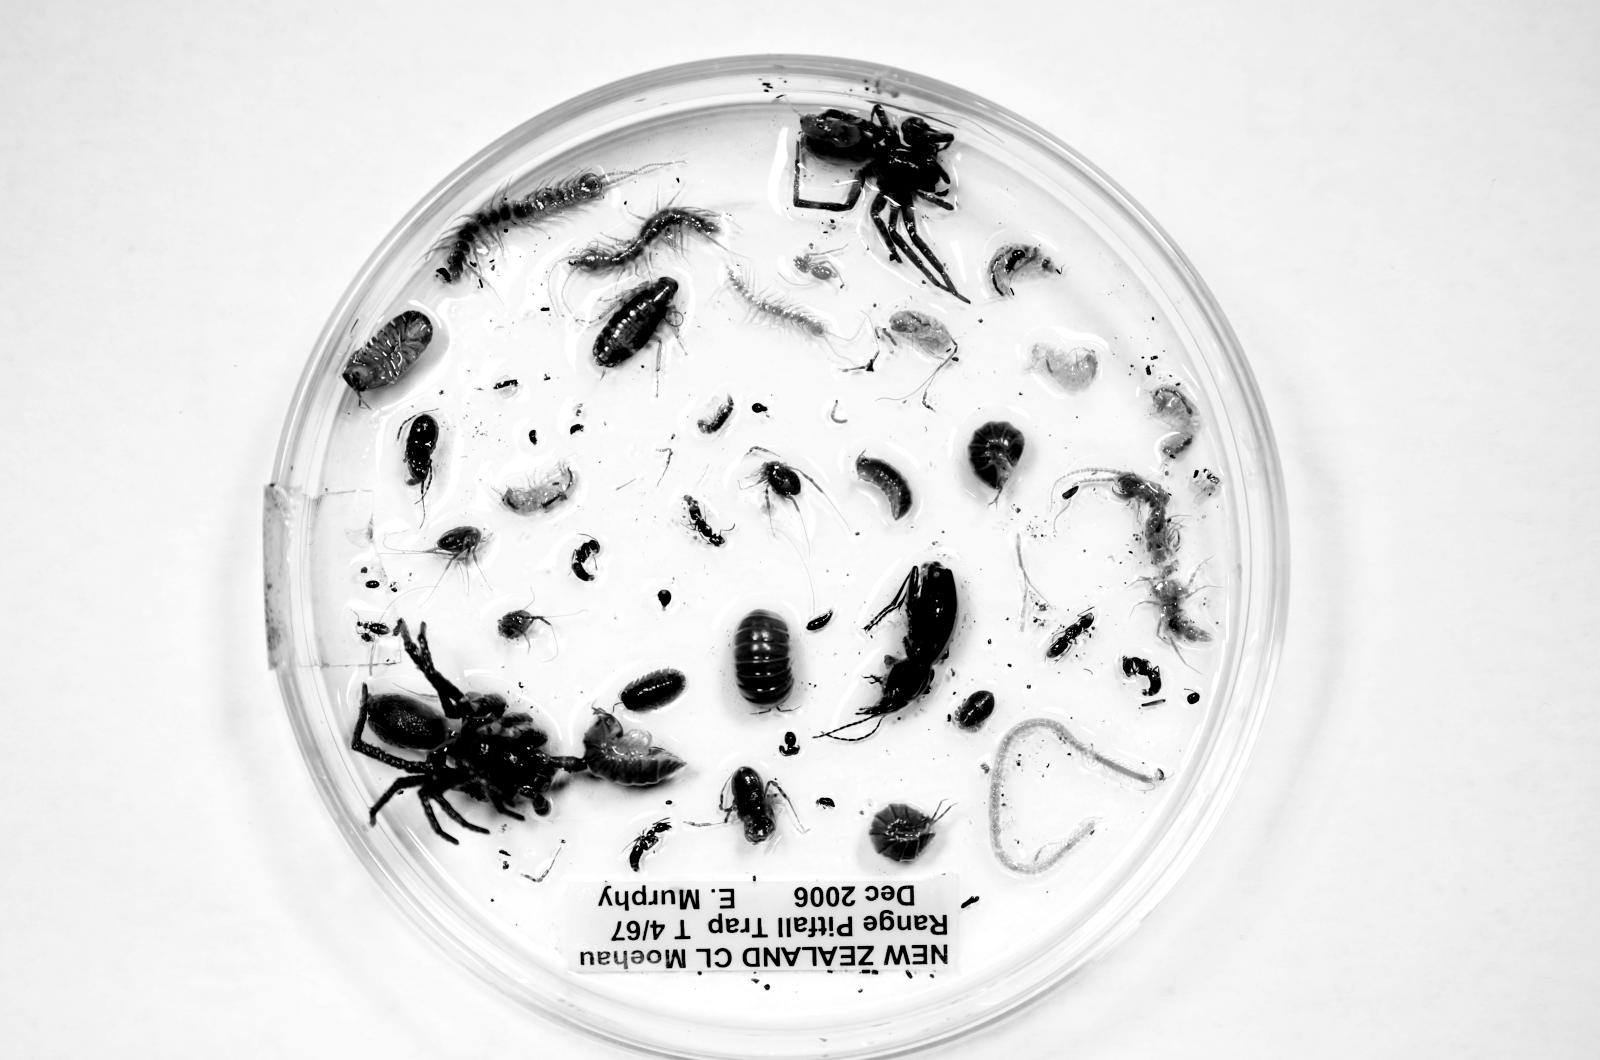amphipoda: (1149, 383, 1201, 466), (500, 461, 578, 516), (986, 243, 1061, 297), (1025, 342, 1099, 393), (889, 310, 957, 358)
araneae: (351, 619, 585, 844), (793, 103, 969, 303), (793, 253, 841, 287)
blattodea: (594, 277, 679, 368)
carabidae: (860, 562, 957, 716)
chilopoda: (1057, 467, 1217, 670), (427, 162, 675, 287), (989, 718, 1166, 875), (563, 201, 724, 276), (724, 264, 835, 338)
coleoptera: (357, 620, 397, 640)
formicidae: (1047, 608, 1095, 659), (628, 817, 673, 872), (684, 495, 725, 547), (1121, 657, 1161, 696), (571, 538, 600, 581)
isopoda: (583, 709, 685, 787), (343, 310, 433, 395), (733, 610, 793, 707), (870, 801, 950, 861), (969, 421, 1024, 490), (856, 455, 912, 521), (620, 668, 686, 712), (697, 394, 736, 435)
opiliones: (720, 767, 798, 844), (403, 414, 439, 502), (434, 526, 486, 567), (950, 690, 996, 731), (759, 461, 802, 500), (498, 609, 550, 641)
pseudoscorpiones: (778, 731, 799, 756)
